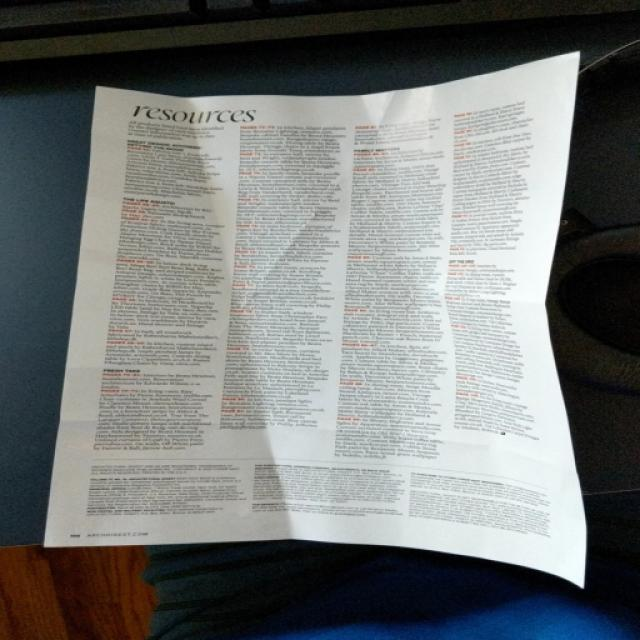document: (47, 54, 584, 582)
